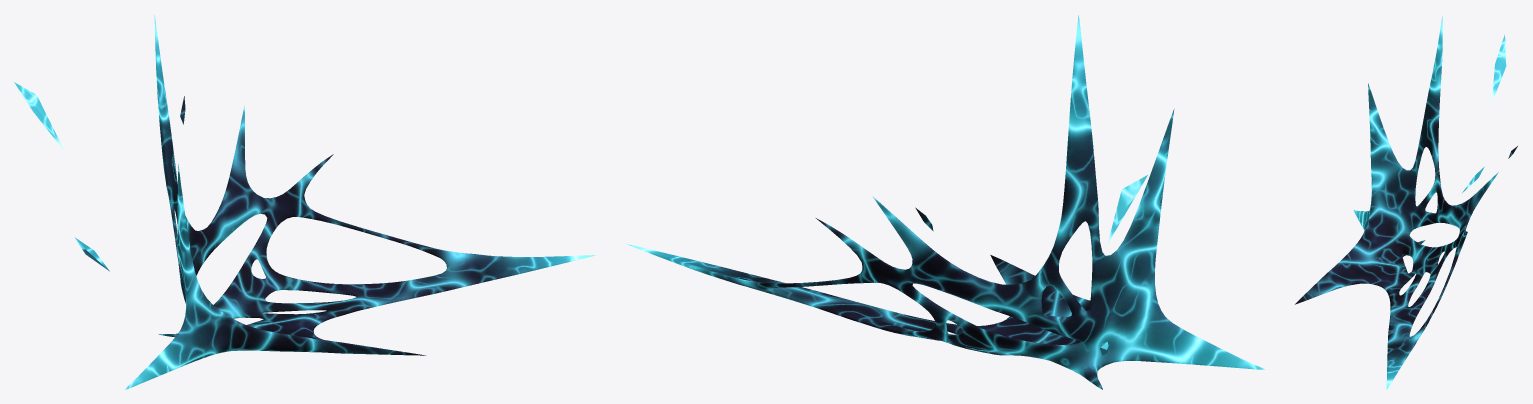
Rendered from caos_hro_chaosconfluence_02a_v35.glb.
The picture shows the model from 3 angles, left to right: view 1: azimuth 30°, elevation 25°; view 2: azimuth 150°, elevation 25°; view 3: azimuth 270°, elevation 25°; orthographic projection. The views are drawn at different scales.
Parts seen in each view (by area): view 1: caos_hro_chaosconfluence_02a; view 2: caos_hro_chaosconfluence_02a; view 3: caos_hro_chaosconfluence_02a.
Part boxes in pixels (left/top/right/bottom): caos_hro_chaosconfluence_02a: left=14, top=15, right=596, bottom=389; caos_hro_chaosconfluence_02a: left=627, top=15, right=1264, bottom=389; caos_hro_chaosconfluence_02a: left=1295, top=16, right=1517, bottom=389.
Size of the model in its own units: 40.47 by 24.16 by 21.16.
Materials: 1 (1 with a texture image).
